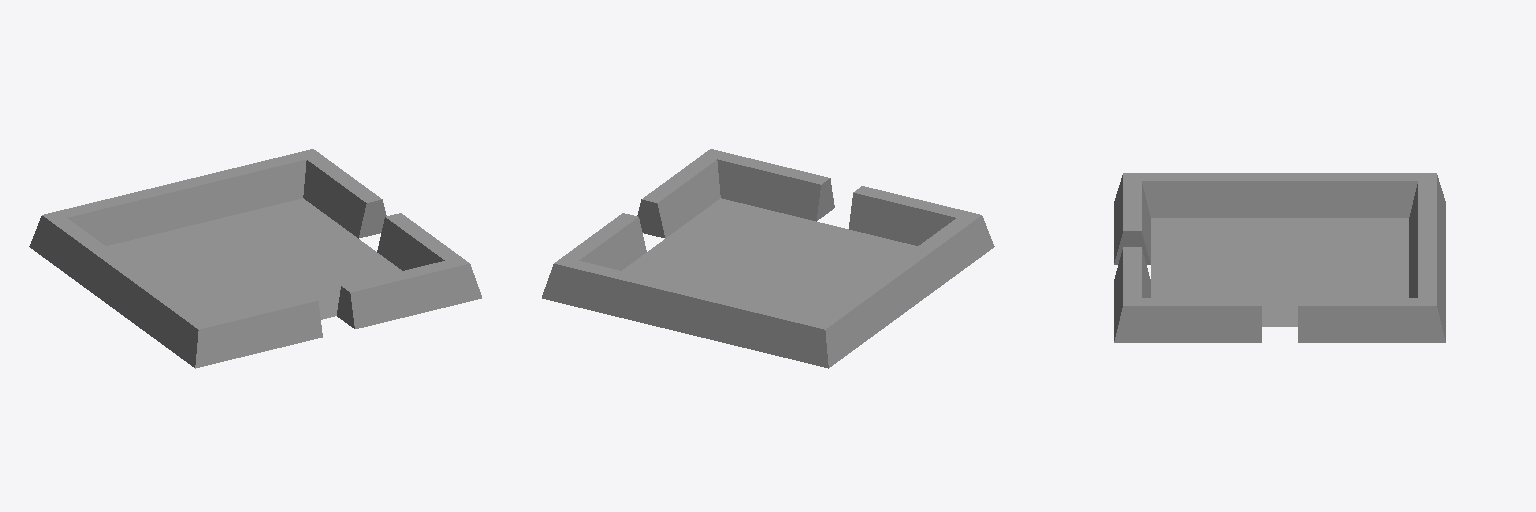
Rendered from sala_07.obj.
The picture shows the model from 3 angles: view 1: azimuth 30°, elevation 25°; view 2: azimuth 150°, elevation 25°; view 3: azimuth 270°, elevation 25°; orthographic projection.
Visible parts, largest first — view 1: Ground_Plane, Wall.006_Cube.016, Wall.004_Cube.015, Wall.001_Cube.012, Wall.003_Cube.010, Wall.002_Cube.014, Wall.005_Cube.002, Wall.000_Cube.011, Wall.007_Cube.017; view 2: Ground_Plane, Wall.003_Cube.010, Wall.001_Cube.012, Wall.006_Cube.016, Wall.005_Cube.002, Wall.002_Cube.014, Wall.004_Cube.015, Wall.007_Cube.017, Wall.000_Cube.011; view 3: Ground_Plane, Wall.000_Cube.011, Wall.007_Cube.017, Wall.005_Cube.002, Wall.002_Cube.014, Wall.004_Cube.015, Wall.003_Cube.010, Wall.001_Cube.012, Wall.006_Cube.016.
Part boxes in pixels (x1,y1,x2,y2): Ground_Plane: (106, 198, 401, 319); Wall.006_Cube.016: (337, 261, 481, 328); Wall.004_Cube.015: (195, 294, 322, 368); Wall.001_Cube.012: (178, 149, 312, 224); Wall.003_Cube.010: (44, 182, 190, 245); Wall.002_Cube.014: (29, 215, 135, 306); Wall.005_Cube.002: (112, 269, 204, 367); Wall.000_Cube.011: (303, 149, 386, 238); Wall.007_Cube.017: (377, 213, 468, 270); Ground_Plane: (622, 198, 917, 318); Wall.003_Cube.010: (685, 290, 828, 368); Wall.001_Cube.012: (542, 261, 697, 332); Wall.006_Cube.016: (711, 149, 834, 221); Wall.005_Cube.002: (888, 215, 994, 306); Wall.002_Cube.014: (819, 269, 911, 367); Wall.004_Cube.015: (849, 186, 979, 245); Wall.007_Cube.017: (637, 149, 720, 238); Wall.000_Cube.011: (555, 213, 646, 270); Ground_Plane: (1151, 218, 1408, 326); Wall.000_Cube.011: (1298, 298, 1445, 342); Wall.007_Cube.017: (1114, 298, 1261, 342); Wall.005_Cube.002: (1124, 173, 1279, 217); Wall.002_Cube.014: (1280, 173, 1435, 217); Wall.004_Cube.015: (1114, 173, 1150, 264); Wall.003_Cube.010: (1409, 173, 1445, 270); Wall.001_Cube.012: (1409, 239, 1445, 340); Wall.006_Cube.016: (1114, 247, 1150, 340).
Size of the model in its own units: 18 by 2 by 18.